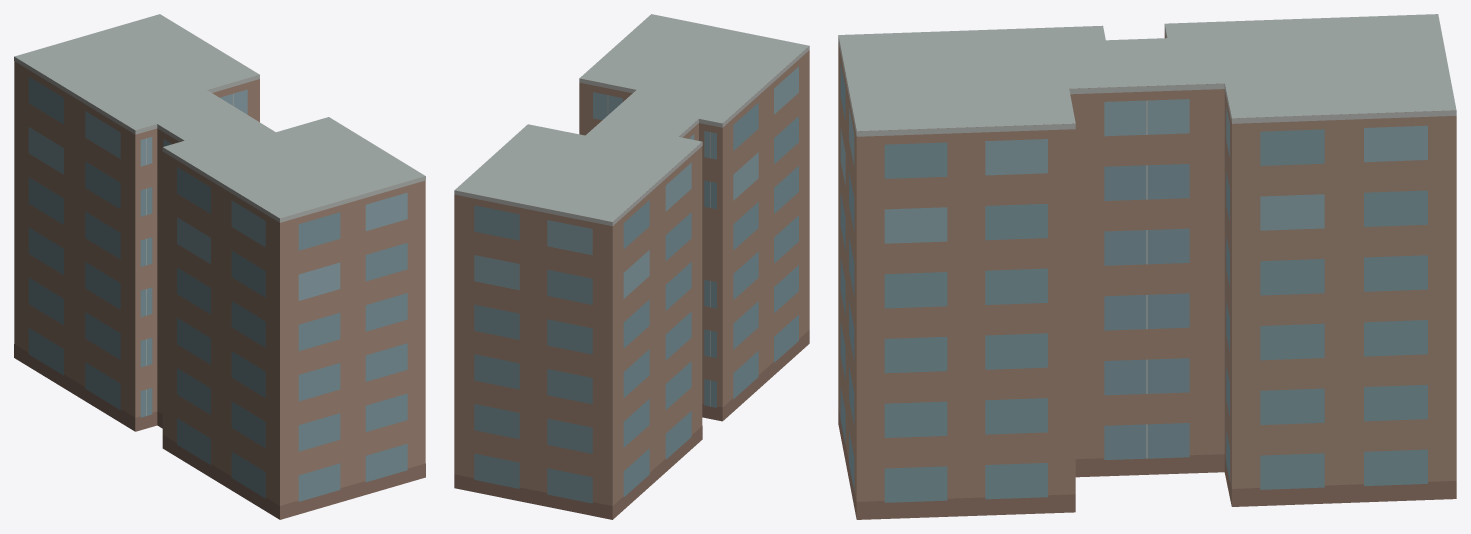
Rendered from survey-upis-32655115.glb.
3 views of the same model, side by side, from view 1: azimuth 30°, elevation 25°; view 2: azimuth 150°, elevation 25°; view 3: azimuth 270°, elevation 25° (orthographic). The views are drawn at different scales.
Visible parts, largest first — view 1: survey-upis-32655115.tmp; view 2: survey-upis-32655115.tmp; view 3: survey-upis-32655115.tmp.
Part boxes in pixels (bbox=[...]): survey-upis-32655115.tmp: bbox=[14, 14, 425, 519]; survey-upis-32655115.tmp: bbox=[454, 14, 809, 519]; survey-upis-32655115.tmp: bbox=[838, 14, 1456, 519].
Bounding box in the file's own units: 11.07 × 17.1 × 24.66.
